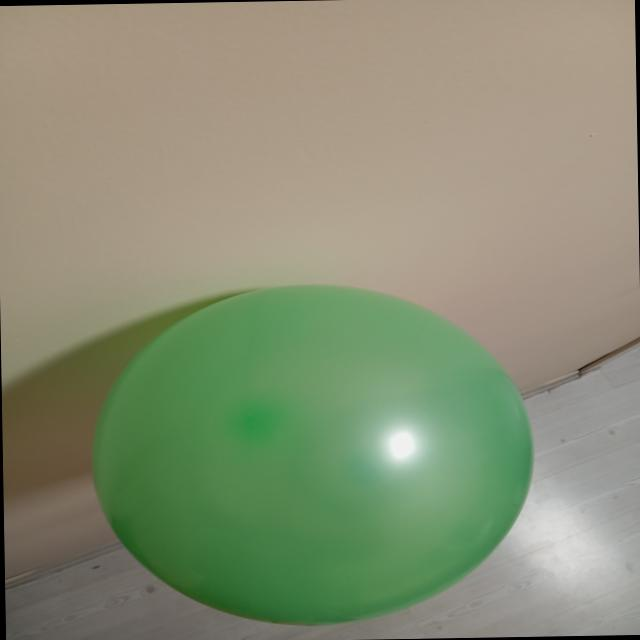balloon: (92, 285, 532, 624)
